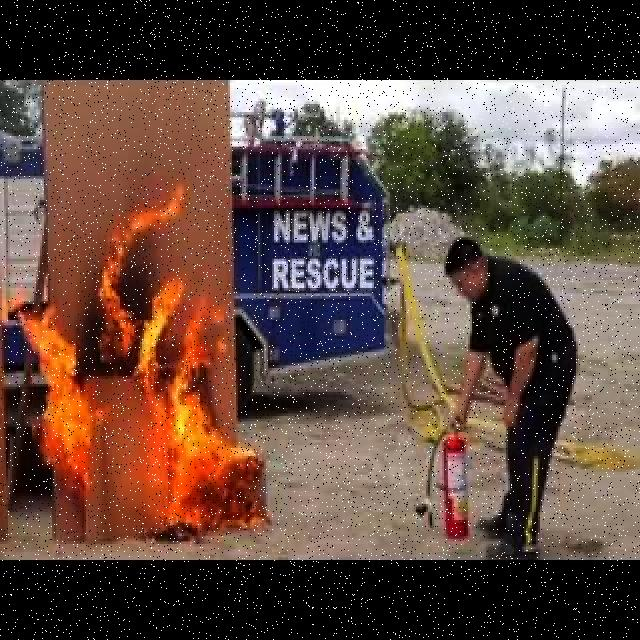fire: (105, 187, 189, 370), (22, 306, 95, 496), (170, 378, 238, 534), (192, 300, 234, 372)
